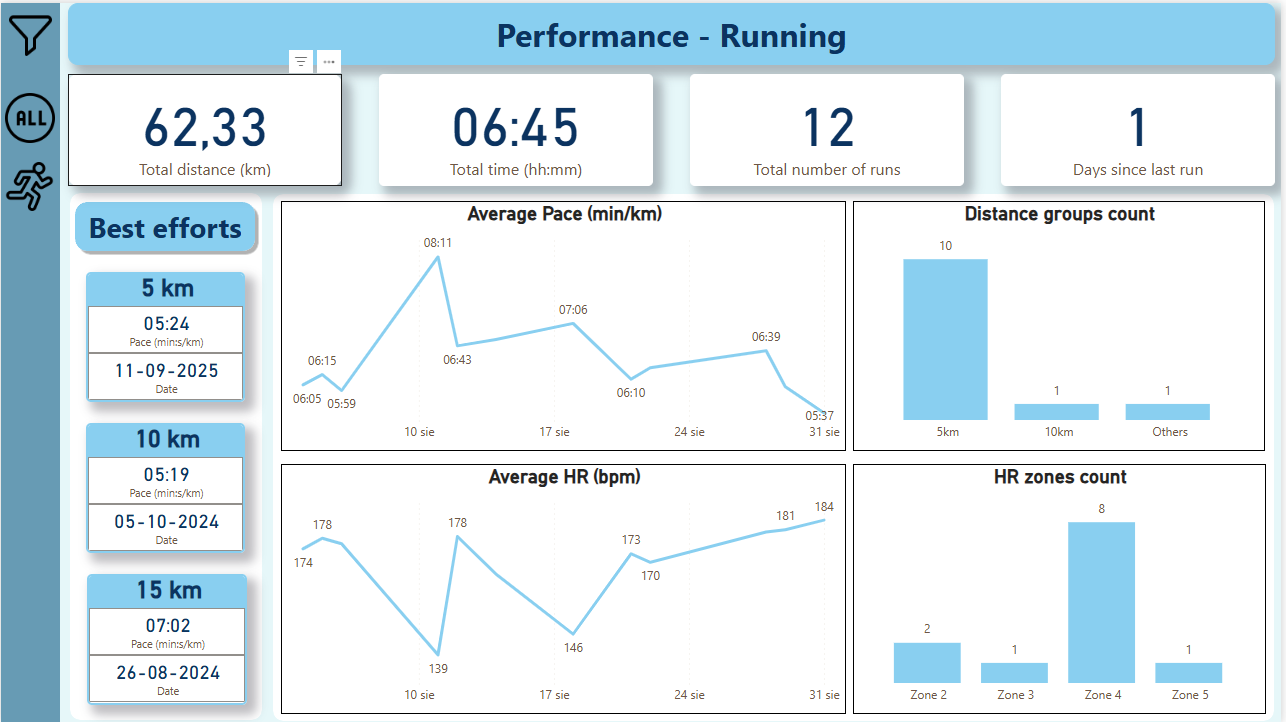

The dashboard page shown, as its layout file describes it:
{"tool":"powerbi","page":{"name":"Running","canvas":[1280,720],"ordinal":1},"visuals":[{"type":"shape","title":"SidePanel","box":[0,0,59,720.1],"z":0,"group":"g3"},{"type":"shape","title":"Background","box":[69.4,190.2,191.7,527.1],"z":0,"group":"g2"},{"type":"shape","title":"Background","box":[272.4,190.7,1001.3,527.1],"z":0,"group":"g1"},{"type":"actionButton","box":[0,0,58.7,61.5],"z":1000,"group":"g3"},{"type":"shape","title":"Best efforts","box":[69.4,193.8,190.2,59.8],"z":1000,"group":"g2"},{"type":"lineChart","title":"Average Pace (min/km)","fields":{"Y":["strava_activities_detailed_final.AVG Pace (min/km)"],"Category":["strava_activities_detailed_final.start_date"]},"box":[280.2,197.8,565.3,250.4],"z":1000,"group":"g1"},{"type":"group","id":"g1","title":"Plots Panel","box":[272.4,190.7,1001.3,528.4],"z":2000},{"type":"lineChart","title":"Average HR (bpm)","fields":{"Category":["strava_activities_detailed_final.start_date"],"Y":["strava_activities_detailed_final.AVG Heart rate"]},"box":[280.2,460.3,565.3,250.4],"z":2000,"group":"g1"},{"type":"cardVisual","title":"15 km","fields":{"Data":["strava_activities_detailed_final.Best Pace (min:s/km)","strava_activities_detailed_final.Best Pace Date"]},"box":[86.9,571.6,159.1,130.4],"z":2000,"group":"g2"},{"type":"group","id":"g2","title":"Best efforts panel","box":[69.4,190.2,191.7,527.1],"z":3000},{"type":"columnChart","title":"Distance groups count","fields":{"Category":["DistanceGroups.DistanceGroupName"],"Y":["strava_activities_detailed_final.Runs (Time Mask)"]},"box":[852.2,197.8,412.6,250.4],"z":3000,"group":"g1"},{"type":"cardVisual","title":"10 km","fields":{"Data":["strava_activities_detailed_final.Best Pace (min:s/km)","strava_activities_detailed_final.Best Pace Date"]},"box":[84.9,420.2,159.1,130.4],"z":3000,"group":"g2"},{"type":"textbox","box":[67,0,1207,62.2],"z":4000},{"type":"cardVisual","title":"5 km","fields":{"Data":["strava_activities_detailed_final.Best Pace (min:s/km)","strava_activities_detailed_final.Best Pace Date"]},"box":[84.9,268.9,159.1,130.4],"z":4000,"group":"g2"},{"type":"columnChart","title":"HR zones count","fields":{"Y":["strava_activities_detailed_final.Runs (Time Mask)"],"Category":["HRZoneTable.HRZoneName"]},"box":[852.4,460.3,412.6,250.4],"z":4000,"group":"g1"},{"type":"card","fields":{"Values":["strava_activities_detailed_final.Total distance (km)"]},"box":[67.3,70.8,273.7,112.2],"z":5000},{"type":"card","fields":{"Values":["strava_activities_detailed_final.Total time (hh:mm)"]},"box":[378,70.6,273.9,112.4],"z":6000},{"type":"card","fields":{"Values":["strava_activities_detailed_final.Total number of runs"]},"box":[689.1,70.6,273.9,112.4],"z":7000},{"type":"card","fields":{"Values":["strava_activities_detailed_final.Days since last run"]},"box":[1000.1,70.6,273.9,112.4],"z":8000},{"type":"group","id":"g3","title":"Side Panel","box":[0,0,59.1,720.1],"z":8500},{"type":"actionButton","box":[0,85.6,58.6,58.6],"z":10000,"group":"g3"},{"type":"actionButton","box":[0,154.7,59.1,57.6],"z":11000,"group":"g3"}]}

Visuals, with their boxes in screenshot pixels (x1, y1, x2, y2):
"SidePanel" shape: l=0, t=0, r=58, b=713
"Background" shape: l=69, t=188, r=259, b=711
"Background" shape: l=270, t=189, r=1262, b=711
actionButton: l=0, t=0, r=58, b=61
"Best efforts" shape: l=69, t=192, r=257, b=251
"Average Pace (min/km)" lineChart: l=278, t=196, r=838, b=444
"Plots Panel" group: l=270, t=189, r=1262, b=712
"Average HR (bpm)" lineChart: l=278, t=456, r=838, b=704
"15 km" cardVisual: l=86, t=566, r=244, b=696
"Best efforts panel" group: l=69, t=188, r=259, b=711
"Distance groups count" columnChart: l=844, t=196, r=1253, b=444
"10 km" cardVisual: l=84, t=416, r=242, b=546
textbox: l=66, t=0, r=1262, b=62
"5 km" cardVisual: l=84, t=266, r=242, b=396
"HR zones count" columnChart: l=845, t=456, r=1253, b=704
card - strava_activities_detailed_final.Total distance (km): l=67, t=70, r=338, b=181
card - strava_activities_detailed_final.Total time (hh:mm): l=375, t=70, r=646, b=181
card - strava_activities_detailed_final.Total number of runs: l=683, t=70, r=954, b=181
card - strava_activities_detailed_final.Days since last run: l=991, t=70, r=1262, b=181
"Side Panel" group: l=0, t=0, r=59, b=713
actionButton: l=0, t=85, r=58, b=143
actionButton: l=0, t=153, r=59, b=210
